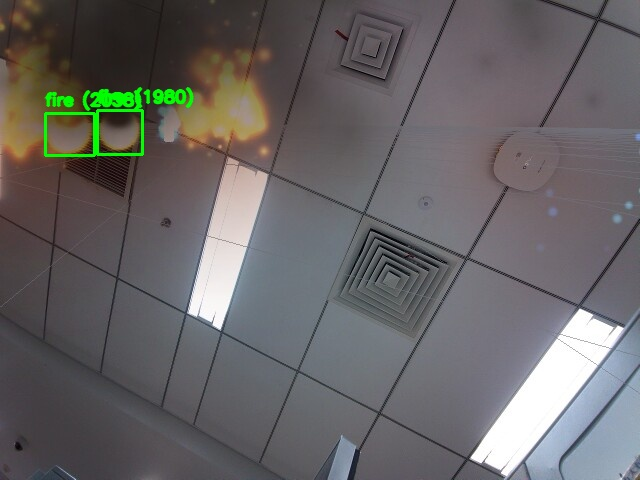fire: (45, 113, 94, 155), (97, 110, 142, 154)
